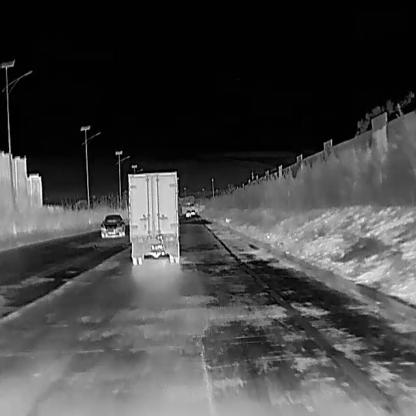car: (100, 213, 124, 236), (184, 209, 192, 216), (190, 208, 196, 214)
truck: (127, 170, 180, 264)
